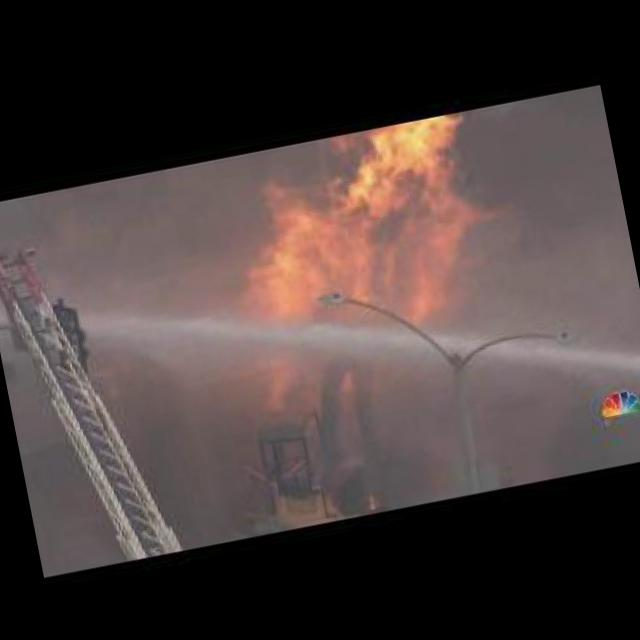fire: (224, 106, 521, 360)
